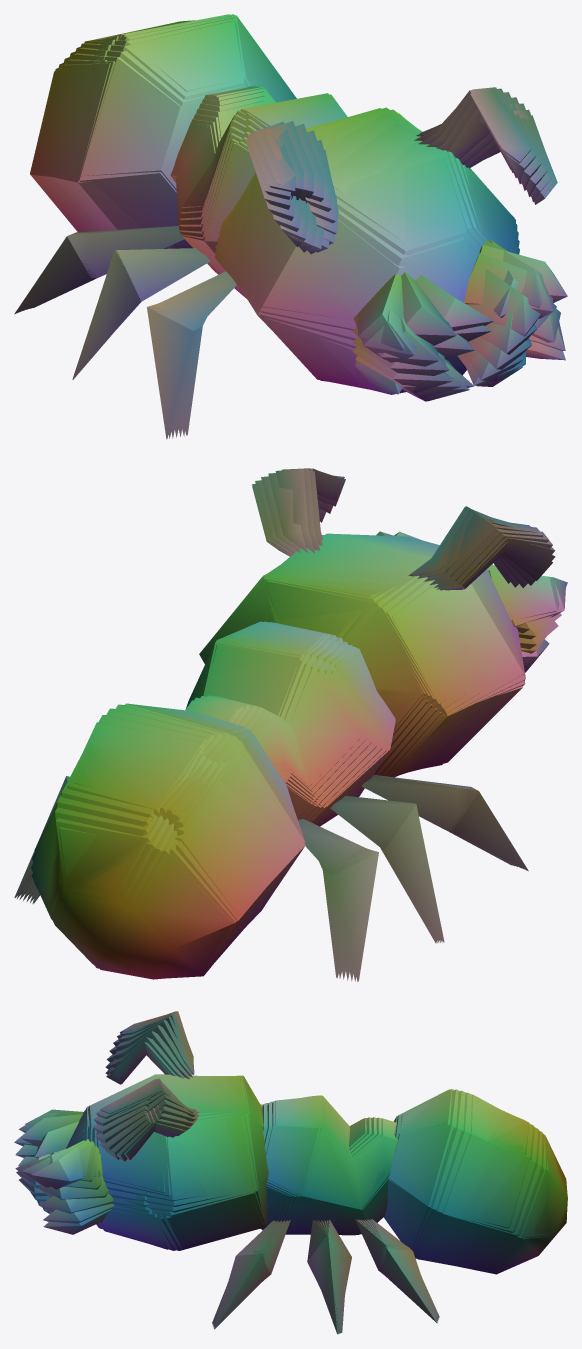
The model's file is Idle_meshes.fbx.
The picture shows the model from 3 angles, top to bottom: view 1: azimuth 30°, elevation 25°; view 2: azimuth 150°, elevation 25°; view 3: azimuth 270°, elevation 25°; orthographic projection. The views are drawn at different scales.
Visible parts, largest first — view 1: Idle_008, Idle_007, Idle_010, Idle_009, Idle_005, Idle_011, Idle_004, Idle_006, Idle_000, Idle_012, Idle_003, Idle_013 (+4 smaller); view 2: Idle_000, Idle_012, Idle_010, Idle_008, Idle_009, Idle_013, Idle_015, Idle_011, Idle_007, Idle_014, Idle_004, Idle_001 (+4 smaller); view 3: Idle_000, Idle_015, Idle_001, Idle_004, Idle_002, Idle_013, Idle_014, Idle_003, Idle_012, Idle_011, Idle_008, Idle_005 (+4 smaller).
Boxes of the visible parts, x1=… form: Idle_008: x1=34, y1=59, x2=553, y2=439; Idle_007: x1=33, y1=53, x2=540, y2=438; Idle_010: x1=32, y1=62, x2=543, y2=345; Idle_009: x1=61, y1=63, x2=567, y2=350; Idle_005: x1=26, y1=20, x2=536, y2=438; Idle_011: x1=30, y1=60, x2=519, y2=330; Idle_004: x1=23, y1=17, x2=542, y2=437; Idle_006: x1=30, y1=47, x2=536, y2=438; Idle_000: x1=14, y1=36, x2=565, y2=435; Idle_012: x1=30, y1=55, x2=521, y2=341; Idle_003: x1=19, y1=15, x2=547, y2=436; Idle_013: x1=55, y1=50, x2=556, y2=359; Idle_000: x1=14, y1=548, x2=549, y2=981; Idle_012: x1=138, y1=480, x2=493, y2=978; Idle_010: x1=175, y1=473, x2=537, y2=926; Idle_008: x1=33, y1=468, x2=565, y2=977; Idle_009: x1=176, y1=469, x2=567, y2=880; Idle_013: x1=99, y1=483, x2=465, y2=979; Idle_015: x1=34, y1=551, x2=422, y2=963; Idle_011: x1=175, y1=476, x2=512, y2=962; Idle_007: x1=32, y1=468, x2=552, y2=977; Idle_014: x1=59, y1=486, x2=425, y2=968; Idle_004: x1=23, y1=499, x2=552, y2=980; Idle_001: x1=15, y1=547, x2=518, y2=981; Idle_000: x1=43, y1=1042, x2=565, y2=1334; Idle_015: x1=43, y1=1037, x2=567, y2=1273; Idle_001: x1=48, y1=1052, x2=563, y2=1333; Idle_004: x1=30, y1=1054, x2=529, y2=1333; Idle_002: x1=43, y1=1067, x2=540, y2=1334; Idle_013: x1=35, y1=1025, x2=485, y2=1272; Idle_014: x1=39, y1=1031, x2=567, y2=1274; Idle_003: x1=37, y1=1060, x2=534, y2=1333; Idle_012: x1=65, y1=1016, x2=448, y2=1264; Idle_011: x1=34, y1=1012, x2=419, y2=1259; Idle_008: x1=19, y1=1032, x2=438, y2=1329; Idle_005: x1=18, y1=1046, x2=525, y2=1333.
Bounding box in the file's own units: 176 × 145 × 326.
